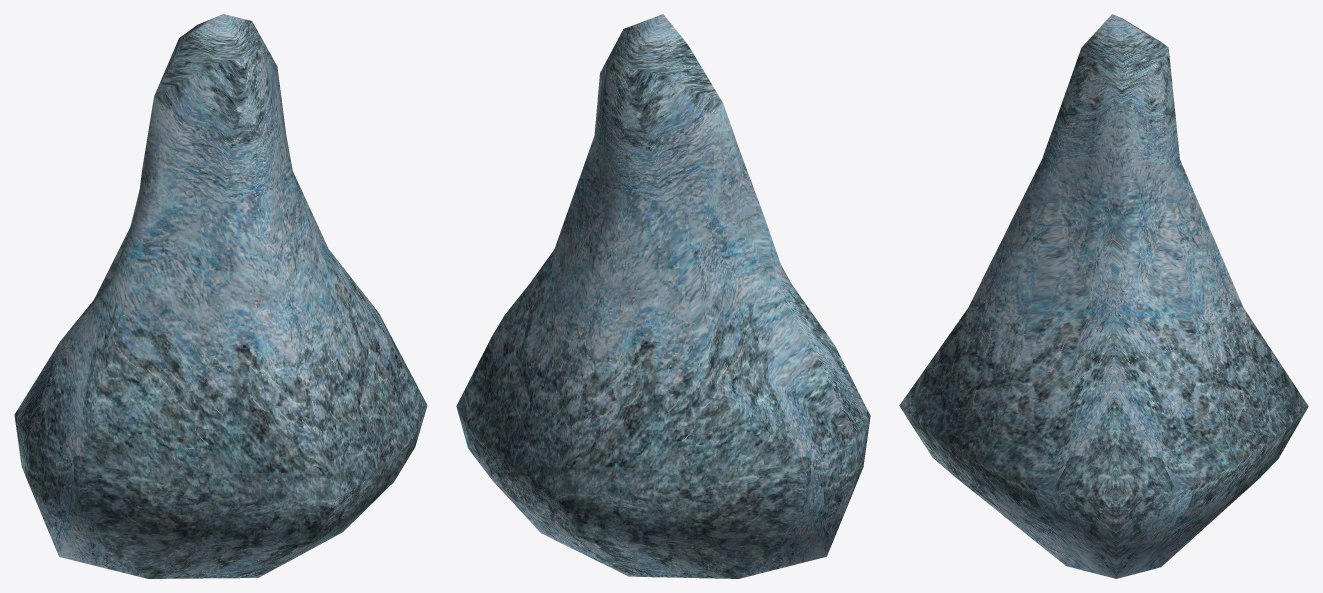
File: thm_all_cave_stalagmite_ice_a3_l0.fbx
3 renders of one model, left to right at view 1: azimuth 30°, elevation 25°; view 2: azimuth 150°, elevation 25°; view 3: azimuth 270°, elevation 25°, orthographic. The views are drawn at different scales.
Visible parts, largest first — view 1: mesh_node; view 2: mesh_node; view 3: mesh_node.
Part boxes in pixels (<box>): mesh_node: <box>14,14,427,578</box>; mesh_node: <box>456,14,870,578</box>; mesh_node: <box>899,14,1308,578</box>.
Size of the model in its own units: 1.23 by 1.7 by 1.18.
